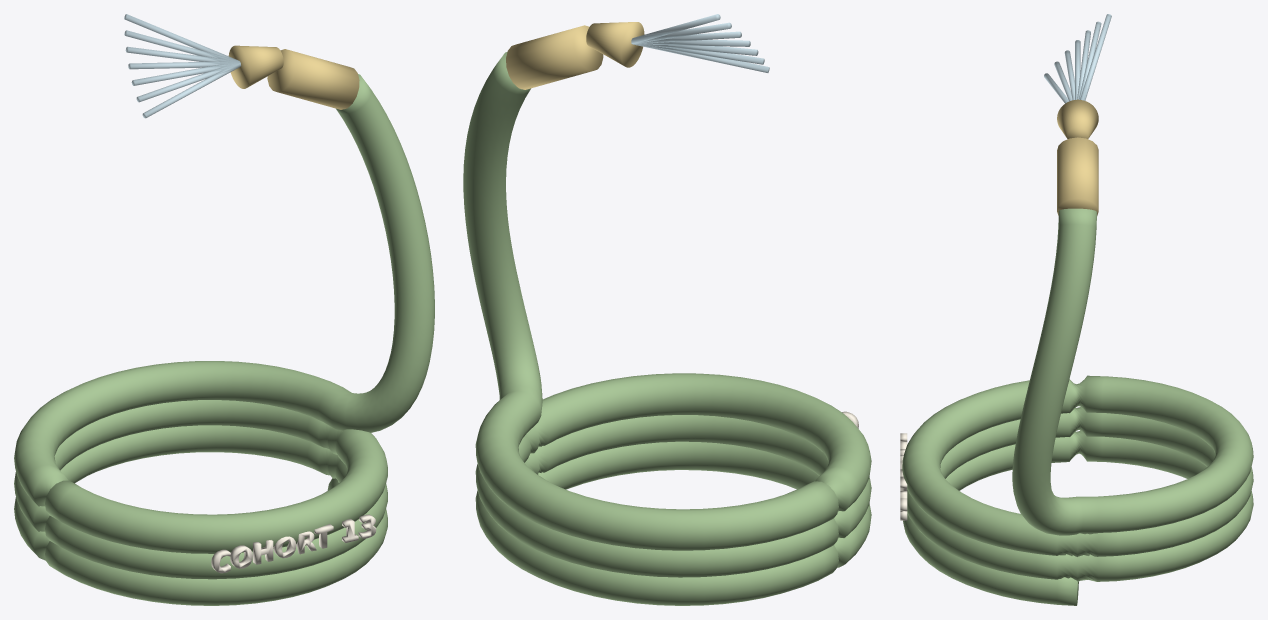
File: hose.glb
3 renders of one model, left to right at view 1: azimuth 30°, elevation 25°; view 2: azimuth 150°, elevation 25°; view 3: azimuth 270°, elevation 25°, orthographic. The views are drawn at different scales.
Visible parts, largest first — view 1: part0, part1, part3, part10; view 2: part0, part1, part3; view 3: part0, part1, part3, part10.
Boxes of the visible parts, x1,y1,x2,y2 form: part0: [14, 74, 434, 605]; part1: [228, 45, 359, 109]; part3: [124, 14, 240, 118]; part10: [211, 514, 376, 573]; part0: [463, 52, 871, 605]; part1: [506, 22, 644, 89]; part3: [631, 14, 769, 72]; part0: [902, 208, 1253, 605]; part1: [1057, 99, 1098, 215]; part3: [1044, 14, 1111, 103]; part10: [900, 433, 907, 520].
Size of the model in its own units: 0.7365 by 1 by 0.6435.
